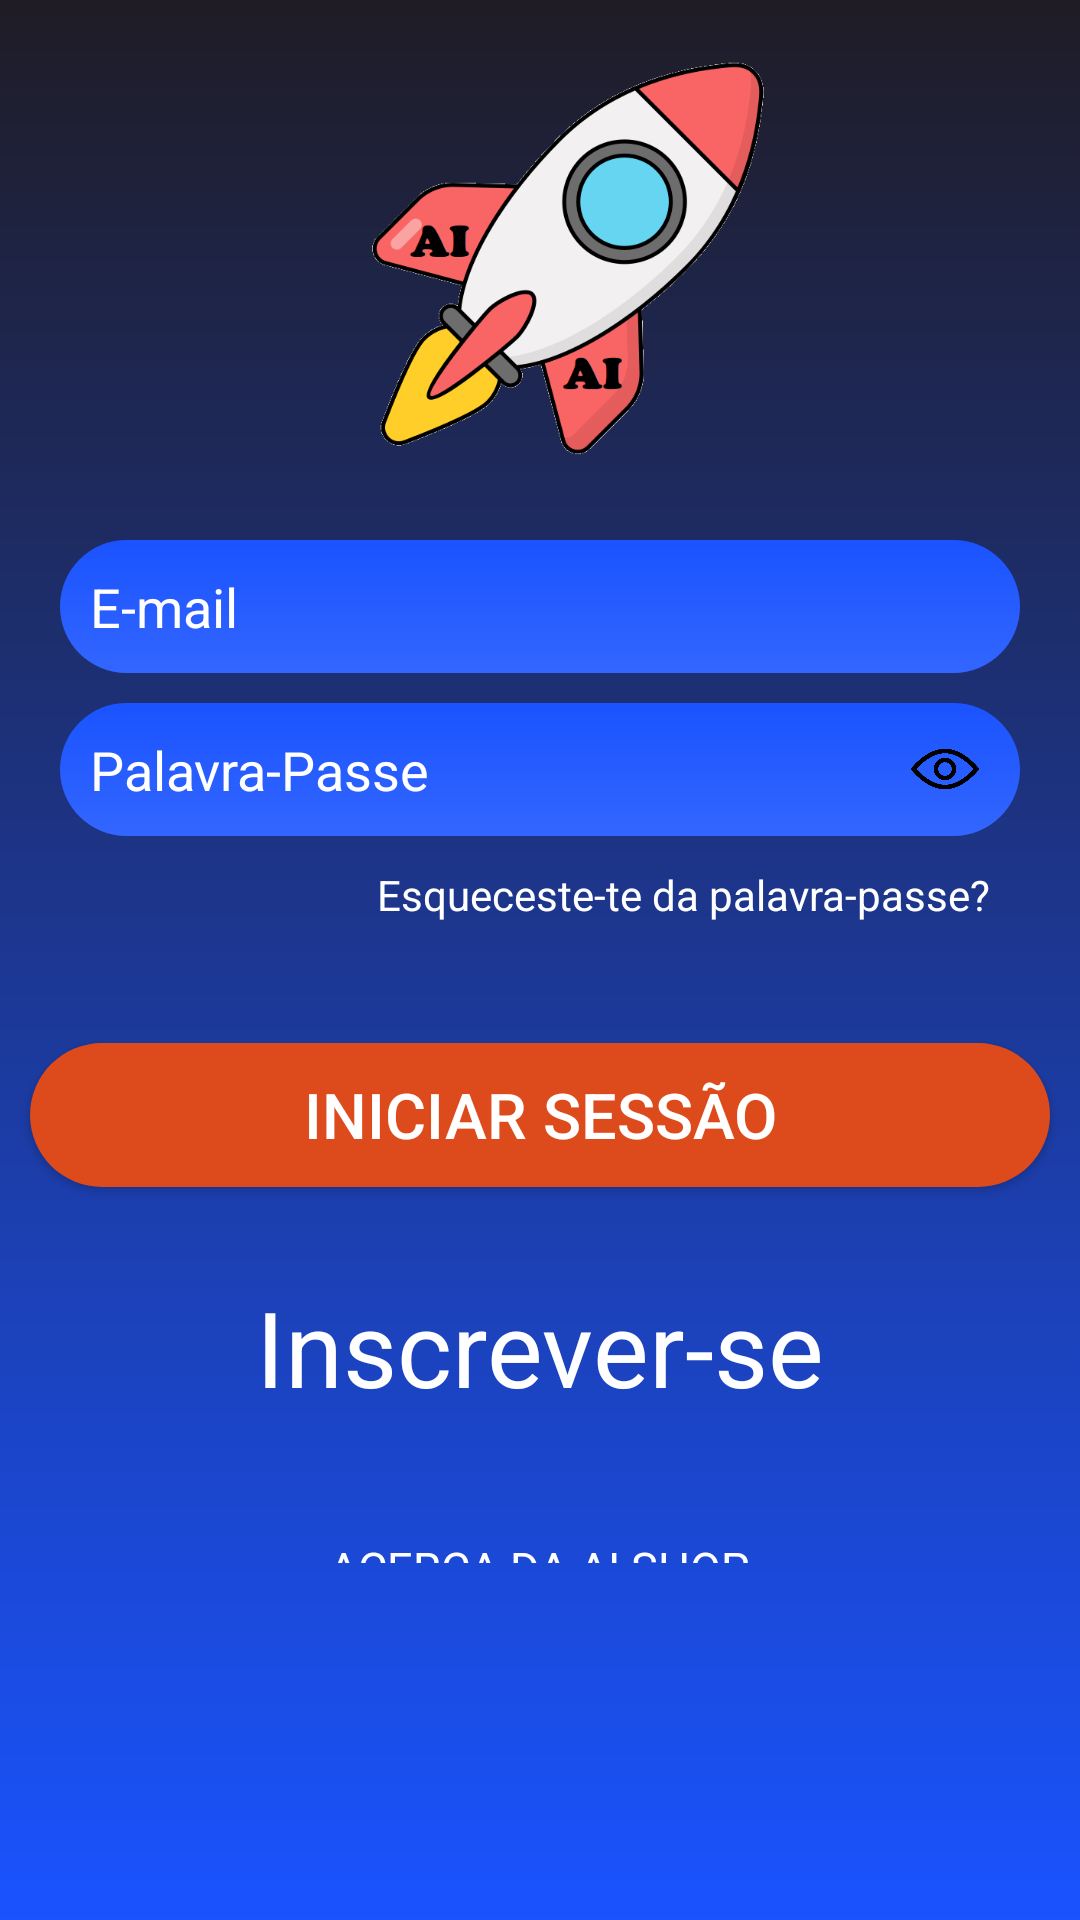

Icons on this 1080*1920 Android screen, each with its box as (x1, y1, x2, y2):
show: (900, 724, 990, 789)
